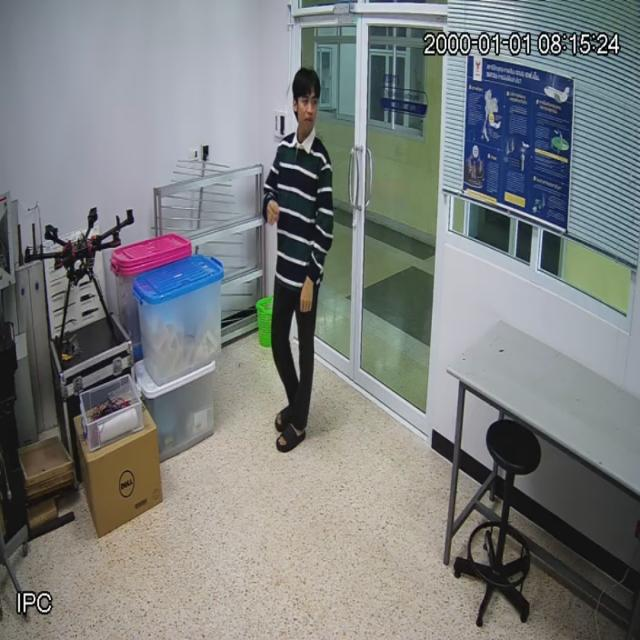normal: (262, 66, 335, 452)
